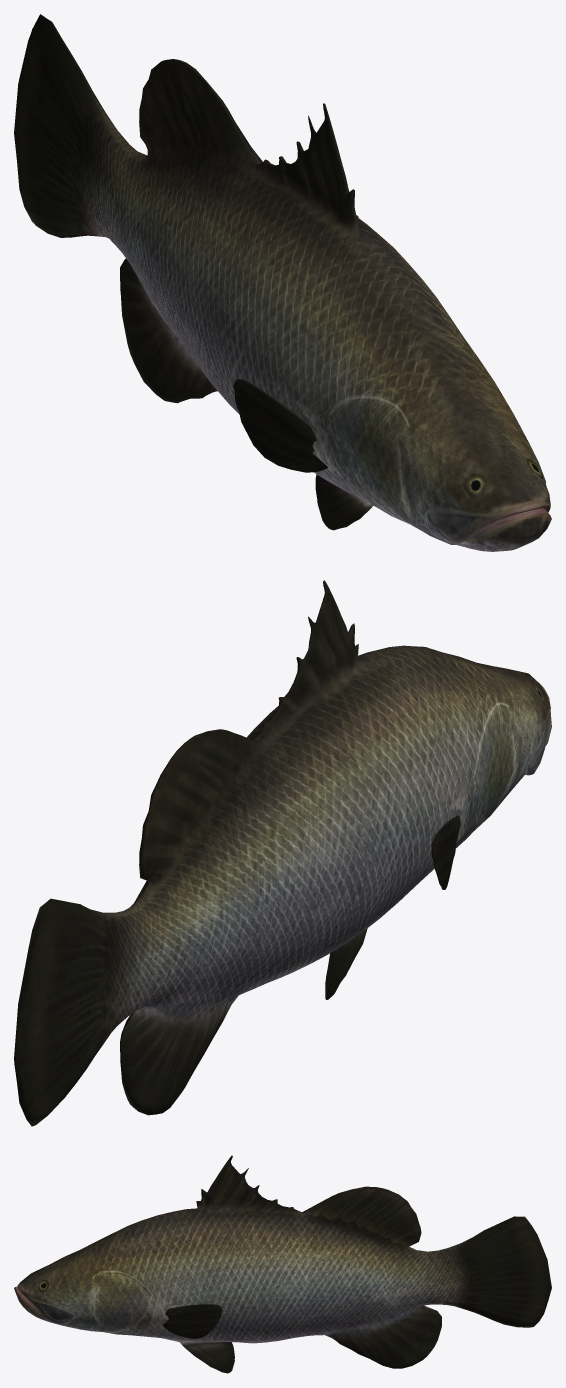
Rendered from barramundi.glb.
3 renders of one model, top to bottom at view 1: azimuth 30°, elevation 25°; view 2: azimuth 150°, elevation 25°; view 3: azimuth 270°, elevation 25°, orthographic. The views are drawn at different scales.
Visible parts, largest first — view 1: BarramundiFish; view 2: BarramundiFish; view 3: BarramundiFish.
Boxes of the visible parts, x1,y1,x2,y2 form: BarramundiFish: [14, 14, 551, 551]; BarramundiFish: [14, 580, 551, 1126]; BarramundiFish: [14, 1155, 551, 1373].
Bounding box in the file's own units: 0.1429 × 0.2875 × 0.6431.
Materials: 1 (1 with a texture image).
